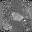people: (12, 12, 24, 22)
